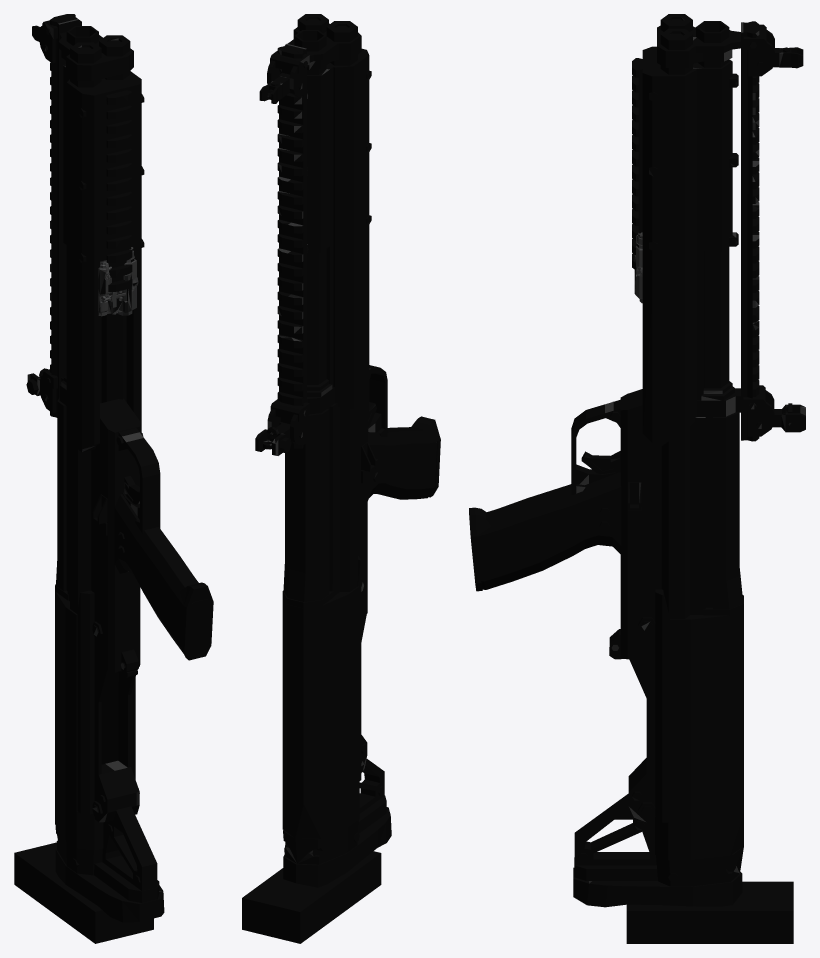
Rendered from KSG__Laser_Pistol__RecoilPad_Rubber.fbx.
The picture shows the model from 3 angles, left to right: view 1: azimuth 30°, elevation 25°; view 2: azimuth 150°, elevation 25°; view 3: azimuth 270°, elevation 25°; orthographic projection. The views are drawn at different scales.
Visible parts, largest first — view 1: asset_KSG.001; view 2: asset_KSG.001; view 3: asset_KSG.001.
Part boxes in pixels (x1,y1,x2,y2): asset_KSG.001: (14, 14, 213, 943); asset_KSG.001: (242, 14, 440, 943); asset_KSG.001: (469, 14, 805, 943).
Bounding box in the file's own units: 0.03 × 0.411 × 0.139.
